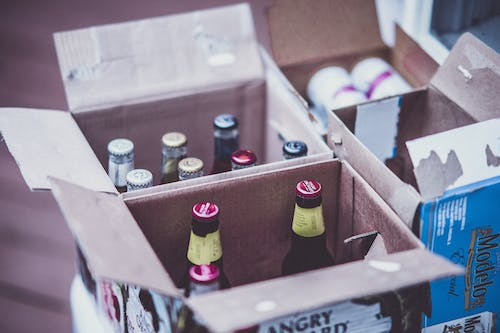alcohol: (279, 178, 336, 276), (176, 200, 233, 298), (305, 65, 371, 128), (348, 55, 414, 101), (208, 113, 241, 176), (421, 310, 498, 333), (106, 136, 135, 194), (158, 131, 188, 186), (186, 263, 221, 298), (176, 156, 205, 182), (125, 168, 154, 193), (230, 148, 258, 171), (281, 139, 309, 161)
